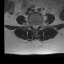CCS_stenosis: (34, 23, 36, 30)
LFS_normal: (38, 22, 40, 28)
LLS_normal: (36, 23, 38, 29)
RFS_normal: (31, 22, 32, 28)
RLS_normal: (32, 23, 34, 30)
